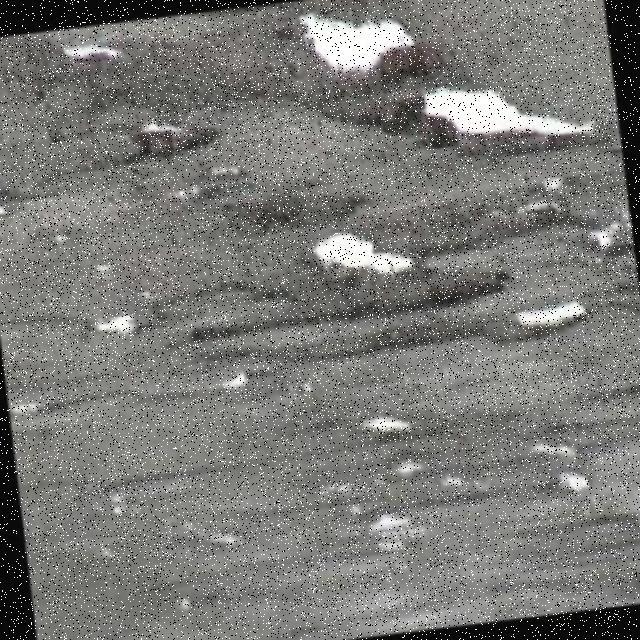Pothole: (378, 89, 609, 158), (290, 10, 443, 94), (300, 228, 416, 287), (127, 118, 220, 158), (511, 300, 587, 327)
